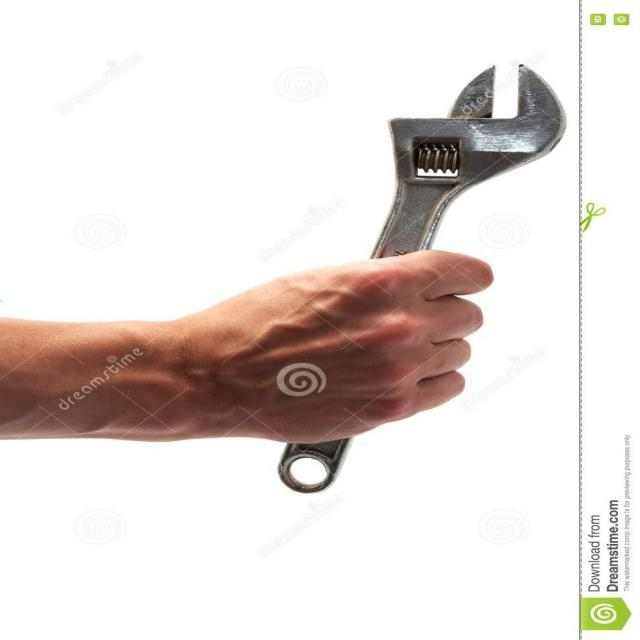wrench: (272, 59, 568, 500)
